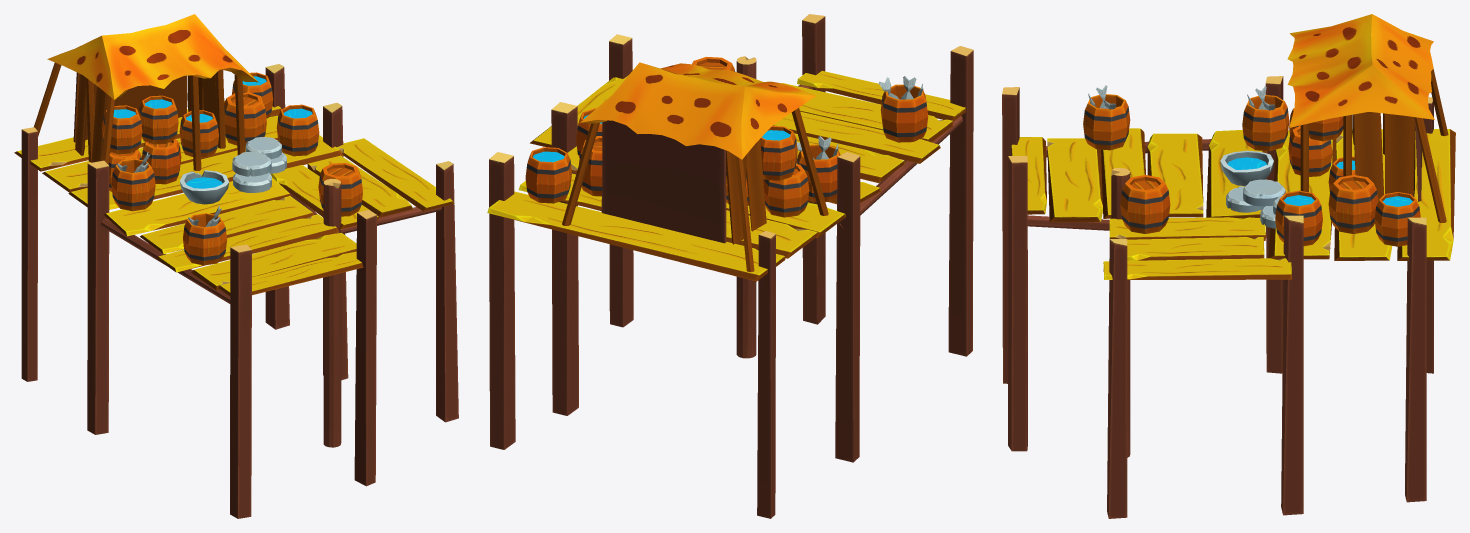
Rendered from Harbor.fbx.
3 renders of one model, left to right at view 1: azimuth 30°, elevation 25°; view 2: azimuth 150°, elevation 25°; view 3: azimuth 270°, elevation 25°, orthographic. The views are drawn at different scales.
Parts seen in each view (by area): view 1: Harbor_mod; view 2: Harbor_mod; view 3: Harbor_mod.
Part boxes in pixels (x1=…): Harbor_mod: x1=14, y1=14, x2=458, y2=518; Harbor_mod: x1=487, y1=14, x2=973, y2=518; Harbor_mod: x1=1002, y1=14, x2=1455, y2=518.
Bounding box in the file's own units: 15.03 × 17.9 × 18.74.
